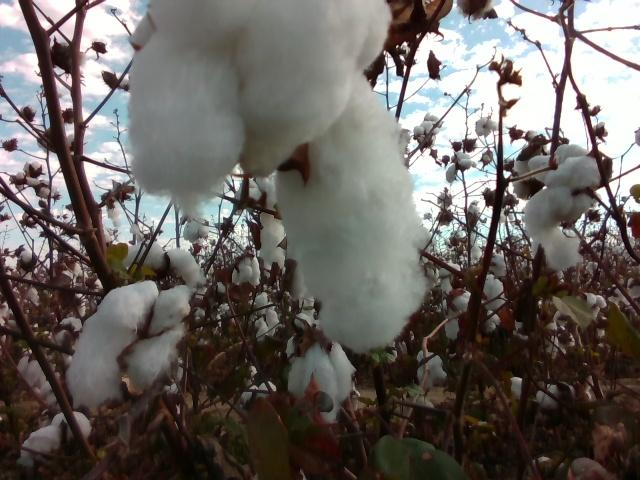cotton_ready: (128, 0, 391, 216), (273, 73, 426, 351), (67, 279, 194, 406), (283, 331, 357, 429), (524, 145, 603, 235), (19, 411, 95, 471), (122, 245, 208, 285), (257, 186, 291, 274), (510, 375, 577, 411), (531, 229, 582, 274), (514, 145, 548, 198), (444, 291, 475, 342), (417, 351, 450, 394), (582, 292, 609, 325), (484, 274, 507, 311)
